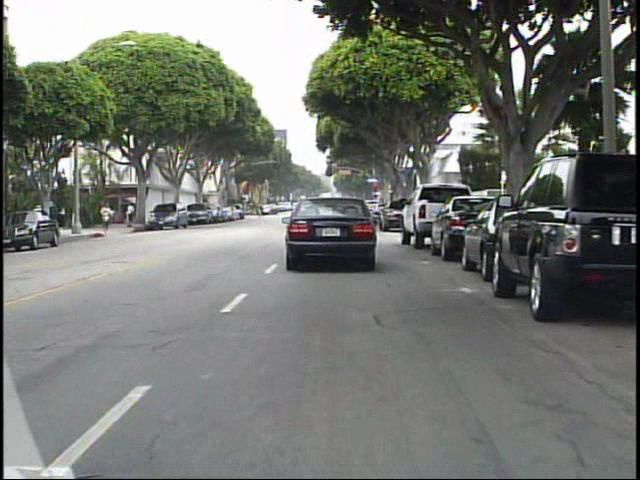person: (99, 199, 116, 236), (124, 198, 138, 231), (258, 200, 270, 221)
